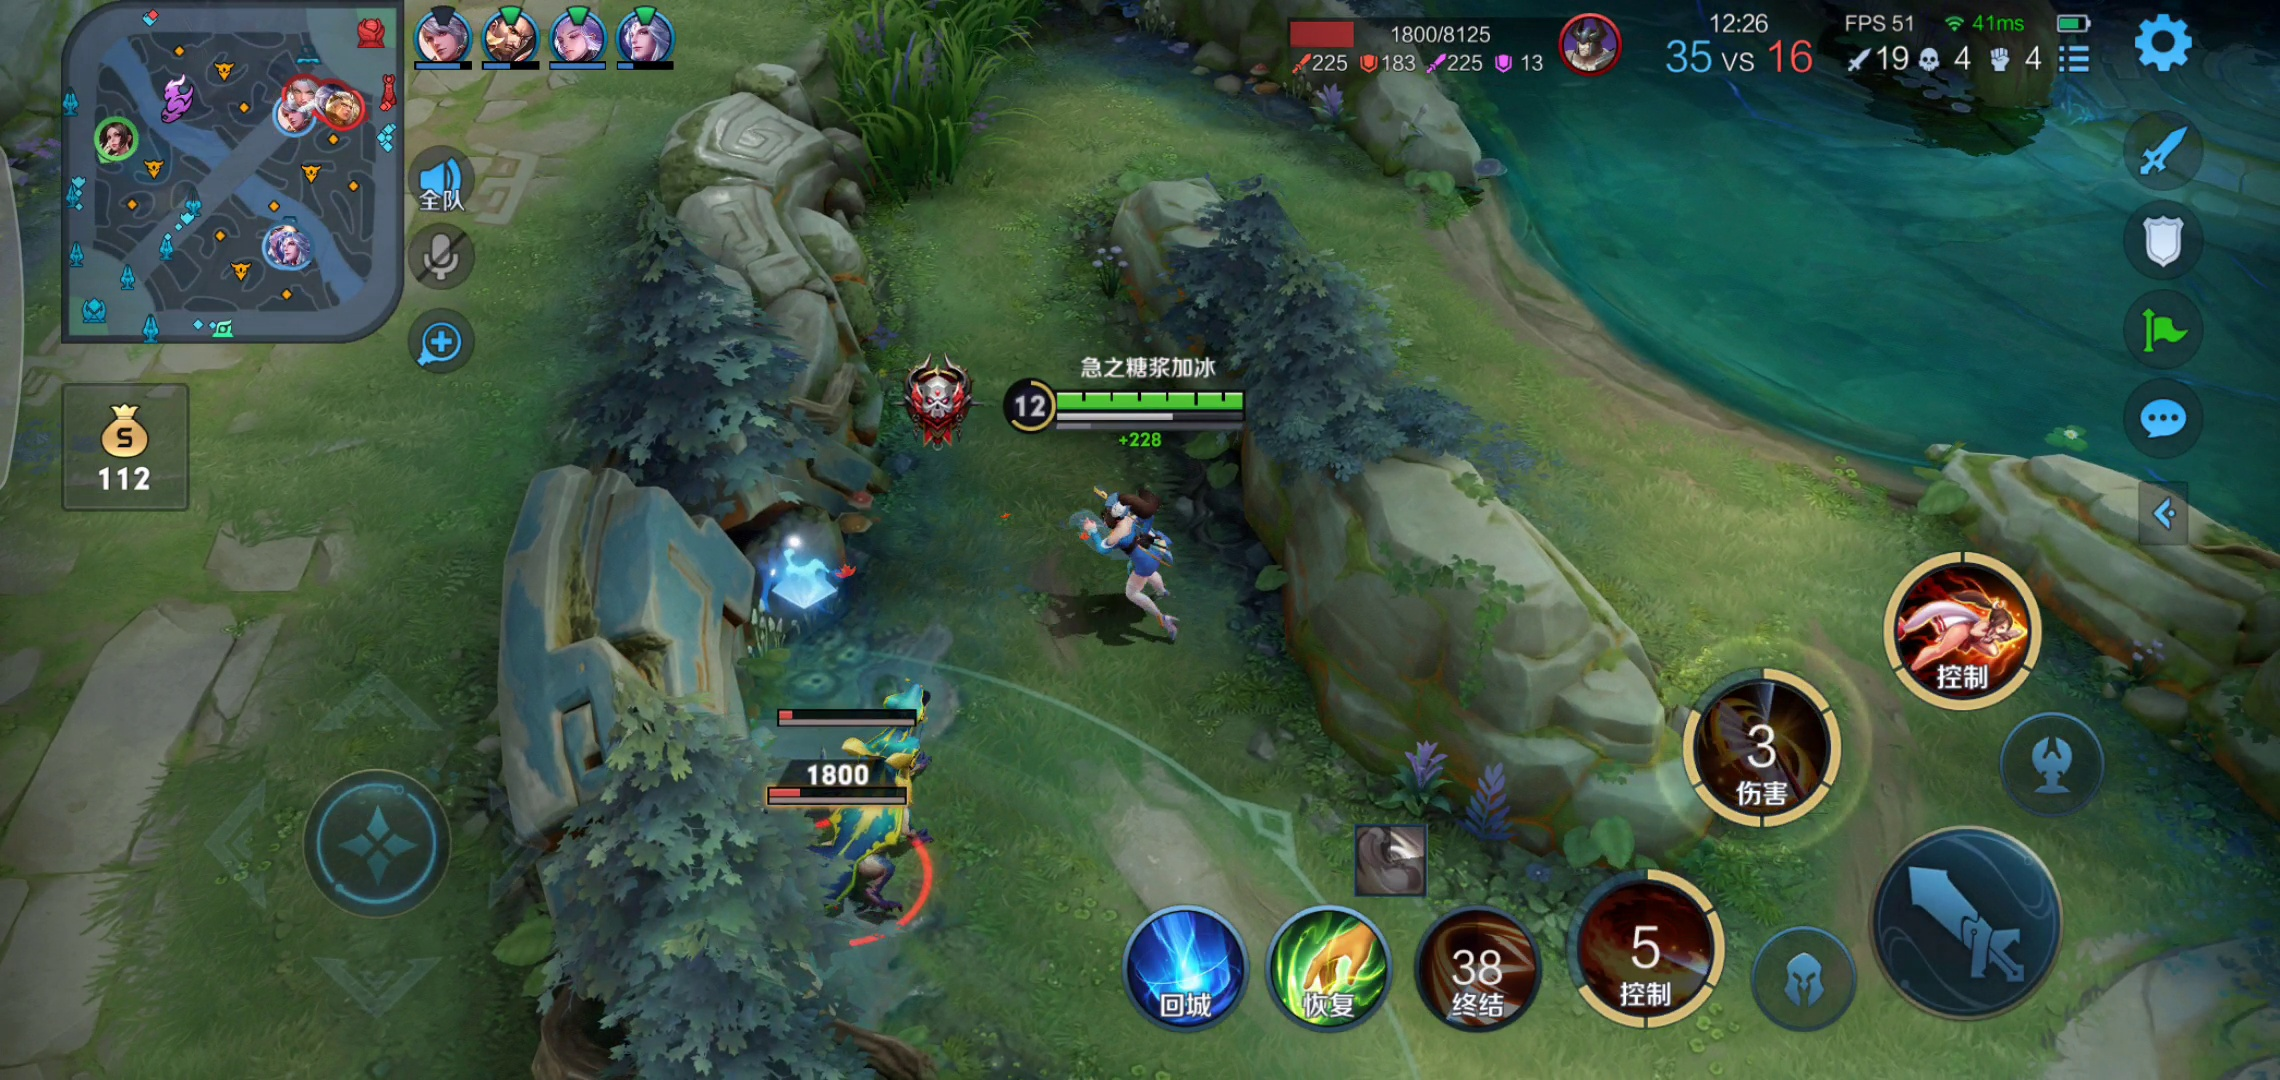grass: (807, 1, 1029, 201)
hero: (1034, 462, 1195, 651)
wild_monster: (734, 677, 987, 935)
